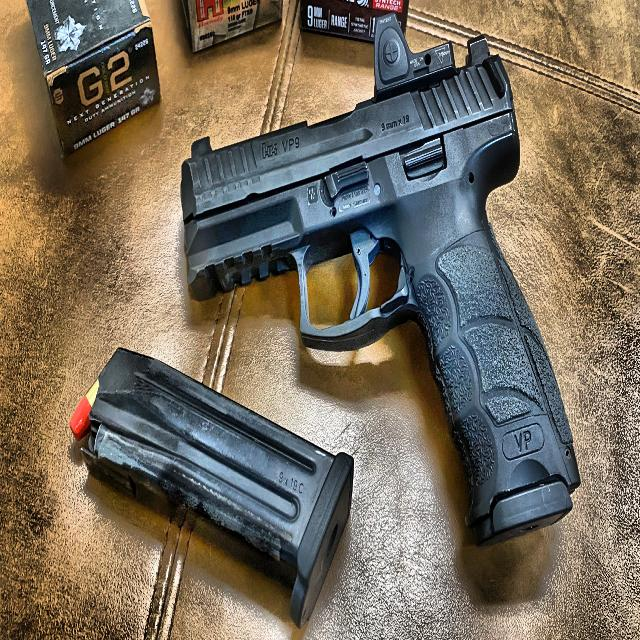HKVP9: (178, 40, 582, 550)
